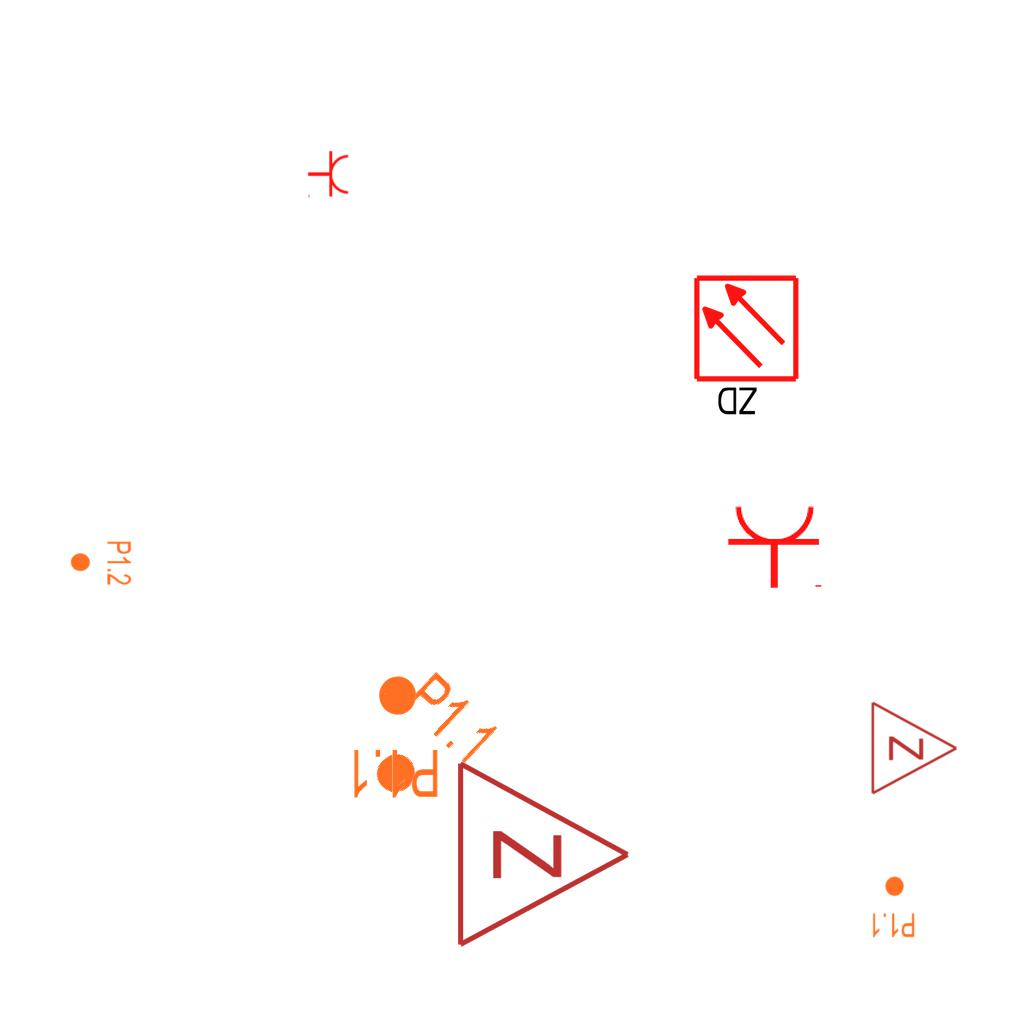Downlight_LED_Einbauleuchten_Flur: (348, 666, 505, 824), (348, 673, 441, 801), (69, 540, 133, 586), (870, 875, 916, 939)
Schukosteckdose_einfach: (726, 503, 826, 590), (307, 150, 350, 200)
ZD_Melder_in_Zwischendecke_mit_Revisionsoeffnung_mind_40_x_40_cm: (691, 273, 805, 422)
Zimmersignalleuchte: (443, 754, 643, 950), (864, 698, 964, 796)
